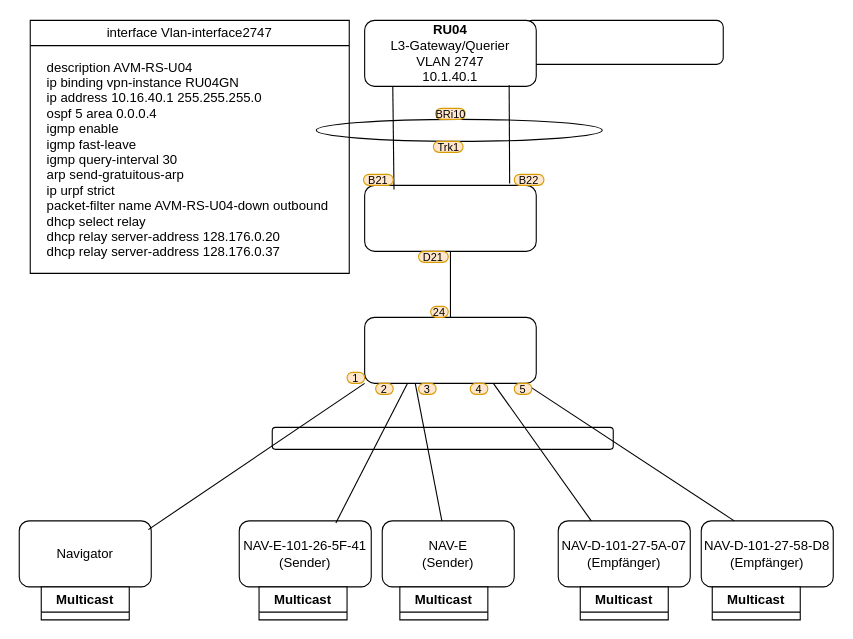
This 853x639 diagram has some shape labels left out. Here are the shapes that lost their labels. From the top down, the centre of each, then its label:
At [623,41]: "HPE Comware Software. Version 7.1.045, Release 7377P02 IRF".
At [458,129]: "LACP".
At [450,217]: "HP54ROEN11-100-1 5406Rzl2 / KB.16.11.0016".
At [450,349]: "HP62FHAUS-F1-BUEHNE 6200M IGMP SNOOPING v2".
At [442,437]: "VLAN2747".
